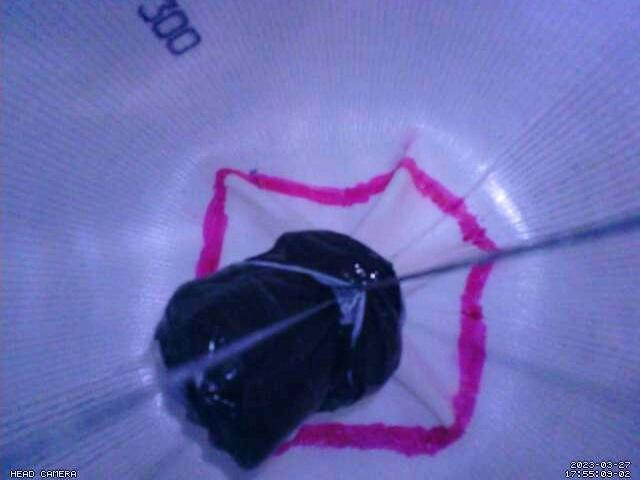red-circle: (193, 155, 500, 457)
